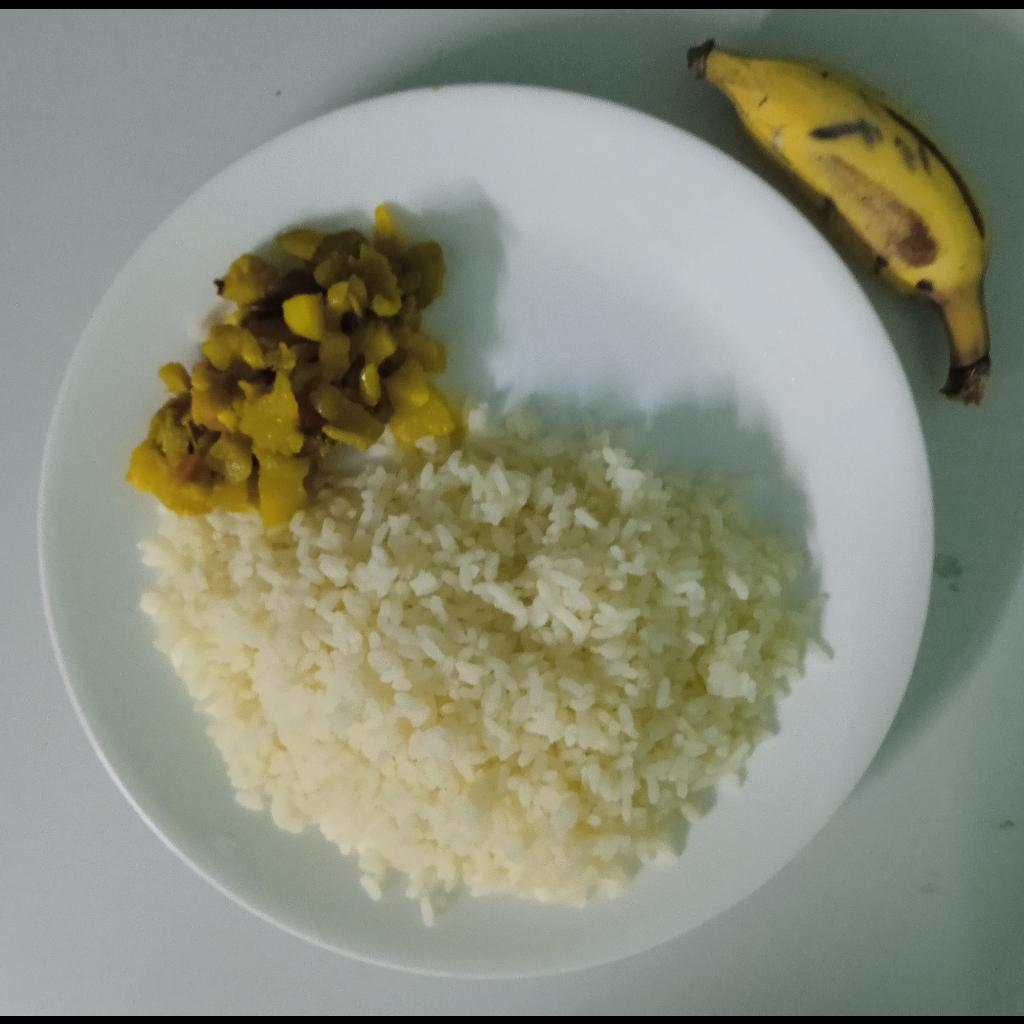banana: (688, 39, 990, 404)
kumra-vaji: (125, 201, 461, 531)
rice: (134, 394, 813, 919)
